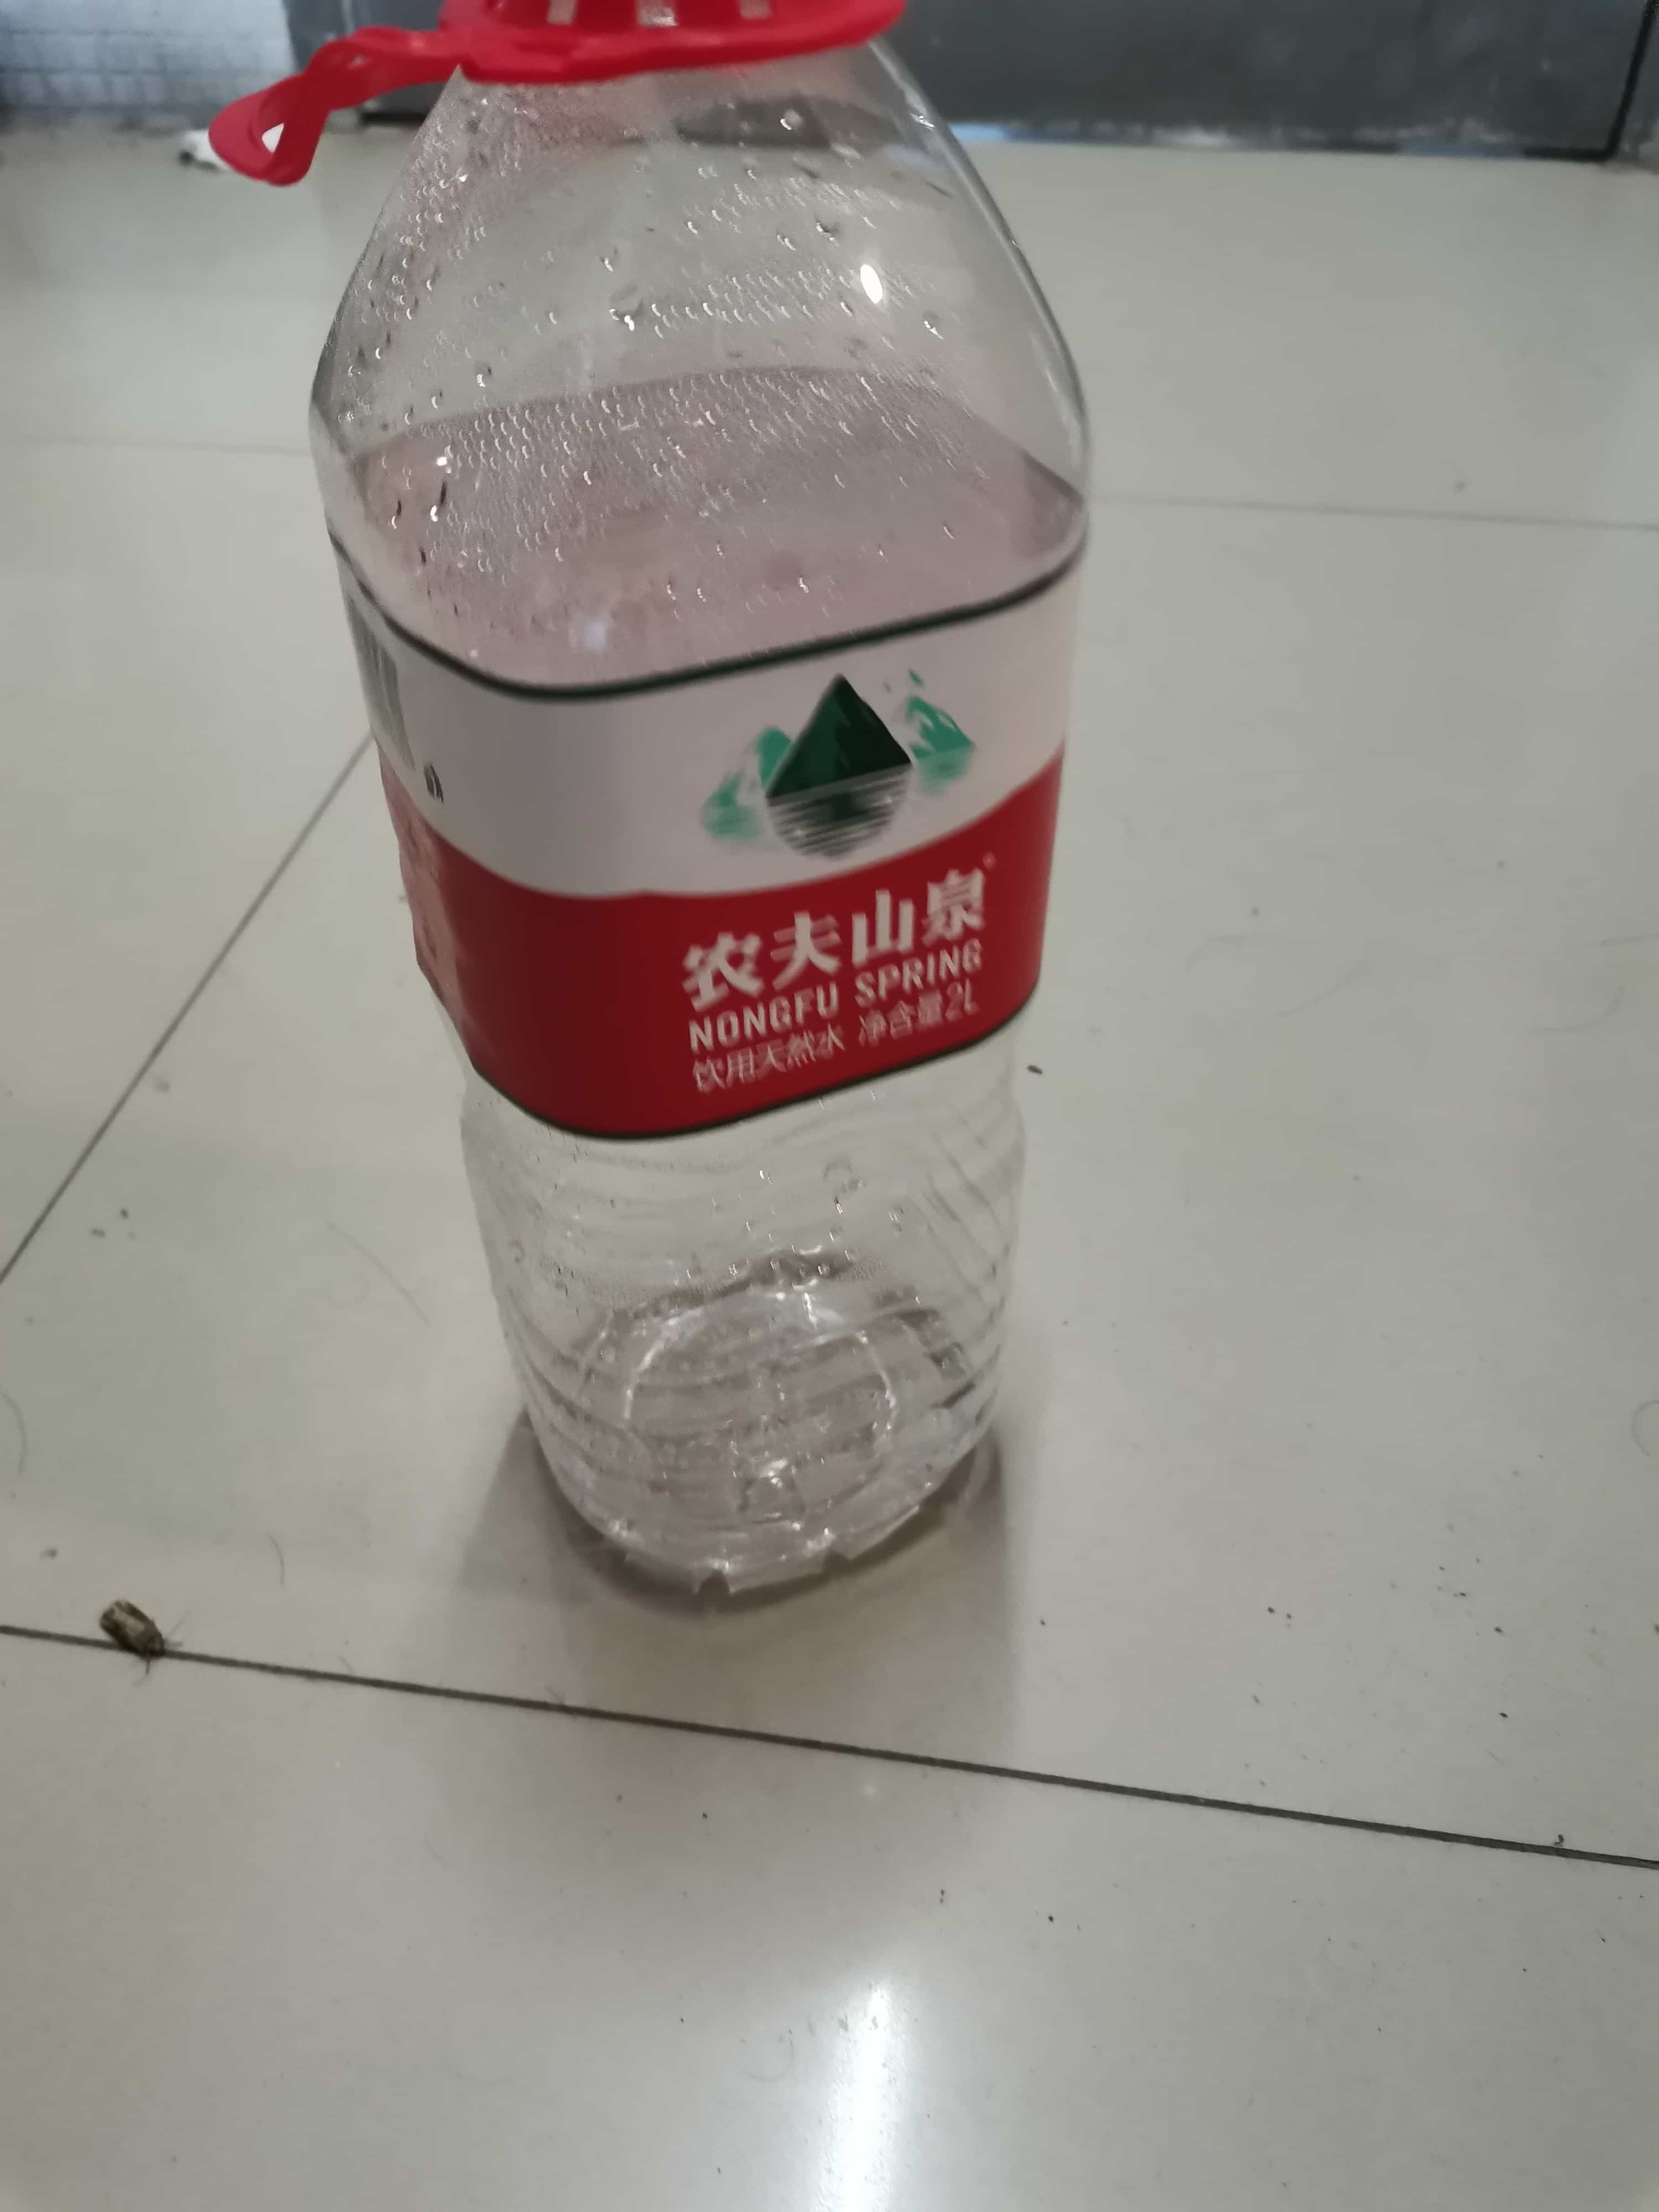plastic_bottle: (202, 21, 1117, 1634)
